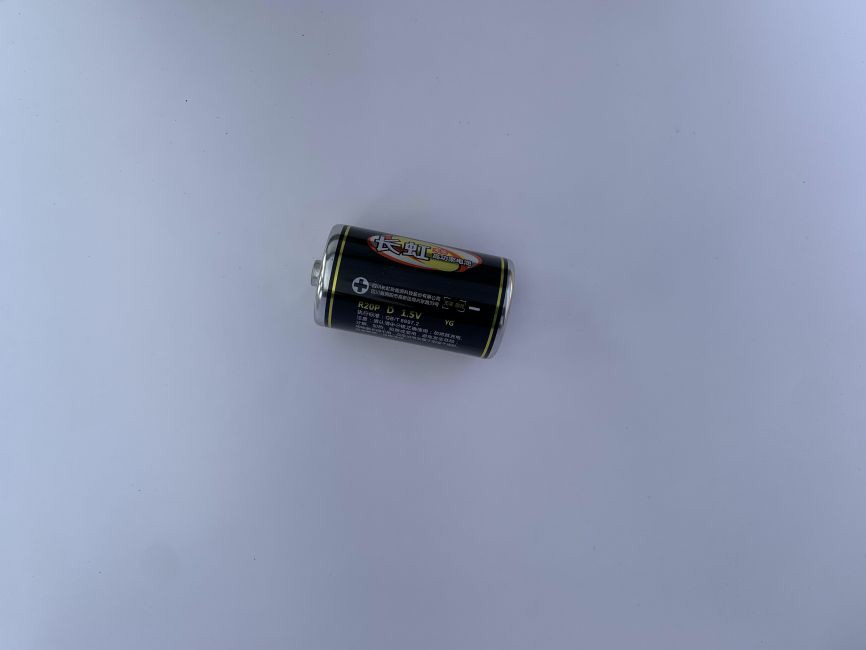charge: (309, 222, 520, 364)
